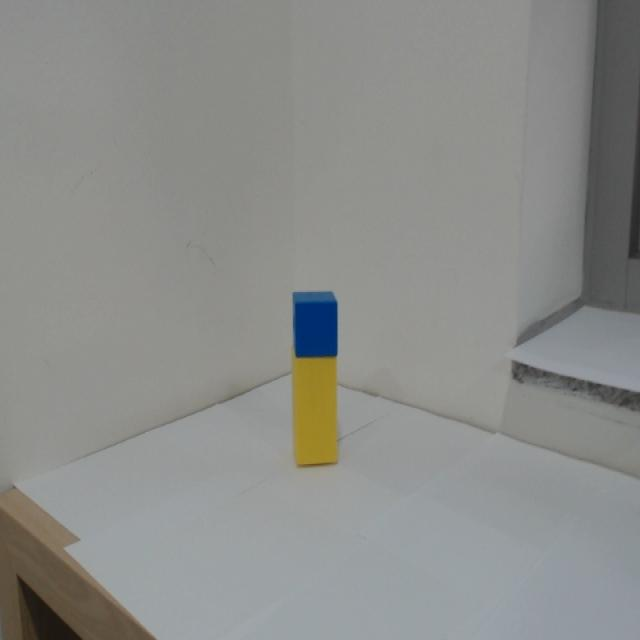cube: (290, 289, 339, 357)
